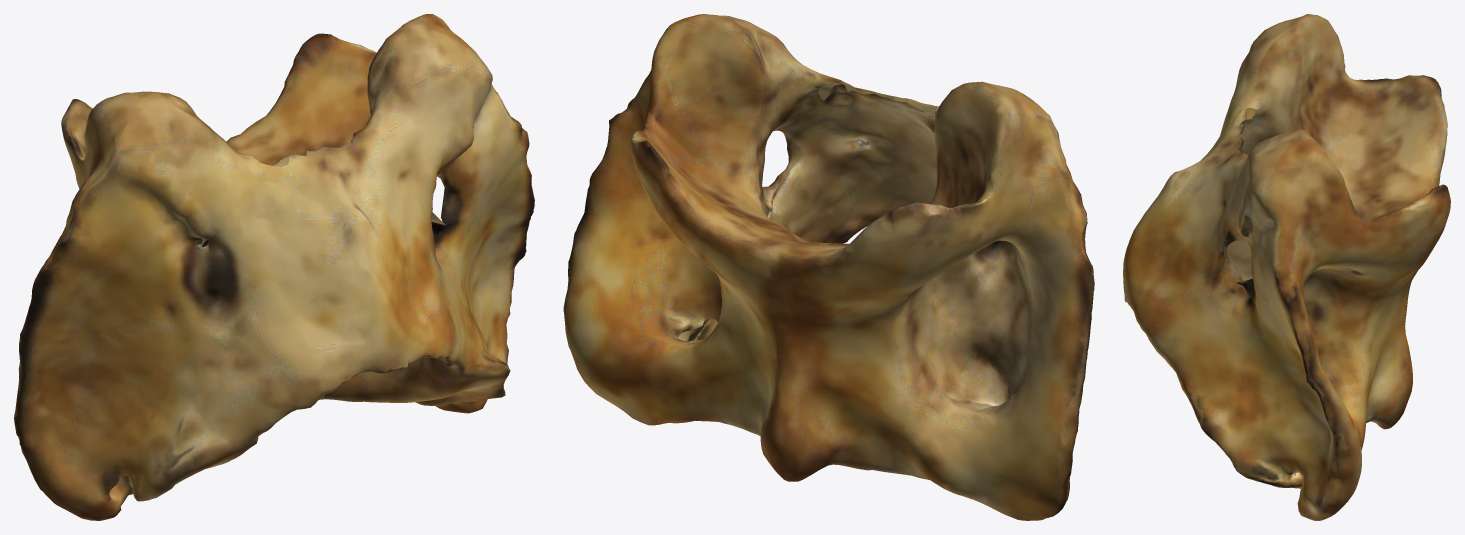
Rendered from atlas.glb.
3 renders of one model, left to right at view 1: azimuth 30°, elevation 25°; view 2: azimuth 150°, elevation 25°; view 3: azimuth 270°, elevation 25°, orthographic. The views are drawn at different scales.
Visible parts, largest first — view 1: Alpaca Atlas; view 2: Alpaca Atlas; view 3: Alpaca Atlas.
Part boxes in pixels (left/top/right/bottom): Alpaca Atlas: left=14, top=14, right=534, bottom=520; Alpaca Atlas: left=563, top=14, right=1094, bottom=520; Alpaca Atlas: left=1123, top=14, right=1450, bottom=520.
Bounding box in the file's own units: 0.0626 × 0.0495 × 0.0397.
1 material, 1 textured.
